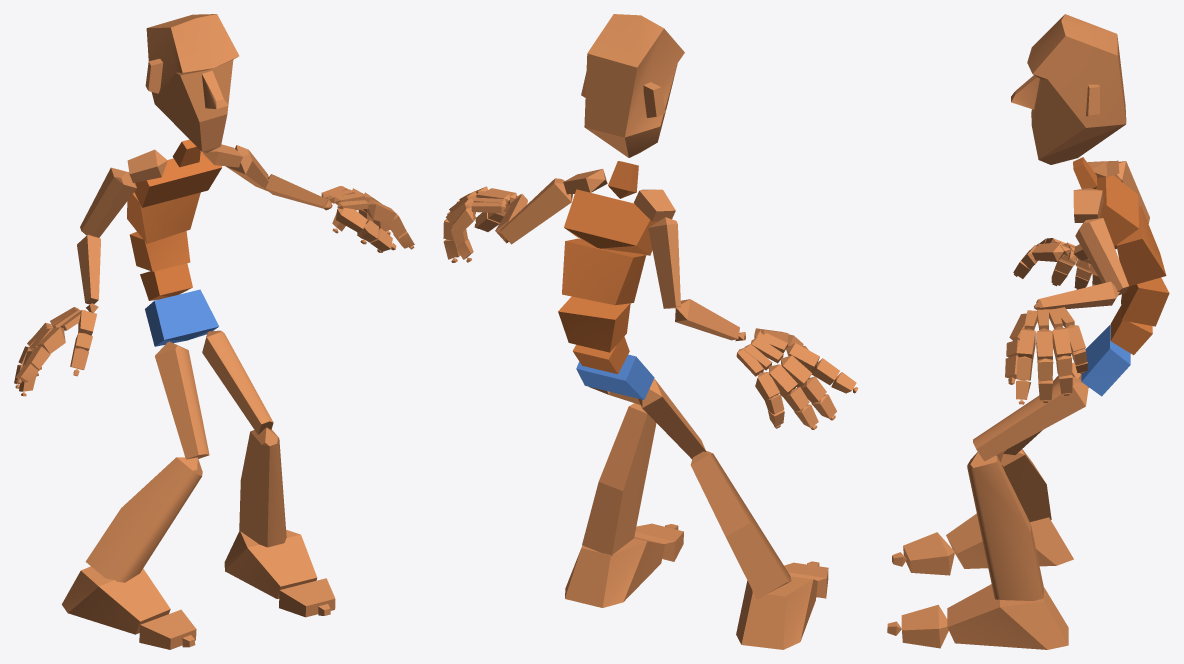
The model's file is prueba210.obj.
3 views of the same model, side by side, from view 1: azimuth 30°, elevation 25°; view 2: azimuth 150°, elevation 25°; view 3: azimuth 270°, elevation 25° (orthographic). The views are drawn at different scales.
Parts seen in each view (by area): view 1: BOPED_Head, BOPED_R_leg, BOPED_L_leg, BOPED_R_foot, BOPED_R_foot01, BOPED_R_legup, Bone01, BOPED_L_legup, Bone05, Bone04, BOPED_R_arm_upper, Bone03 (+8 smaller); view 2: BOPED_Head, BOPED_L_leg, BOPED_R_leg, BOPED_R_foot01, BOPED_R_foot, Bone04, Bone05, Bone03, BOPED_R_arm_upper, BOPED_R_legup, Bone01, BOPED_L_arm_upper (+7 smaller); view 3: BOPED_Head, BOPED_L_leg, BOPED_R_foot01, BOPED_L_legup, BOPED_R_foot, Bone04, BOPED_R_leg, BOPED_L_arm_upper, Bone05, Bone01, Bone03, BOPED_R_foot_toe01 (+11 smaller).
Boxes of the visible parts, left/top/right/bottom form: BOPED_Head: left=145, top=14, right=239, bottom=152; BOPED_R_leg: left=85, top=457, right=202, bottom=582; BOPED_L_leg: left=239, top=427, right=286, bottom=547; BOPED_R_foot: left=62, top=566, right=170, bottom=634; BOPED_R_foot01: left=224, top=529, right=317, bottom=598; BOPED_R_legup: left=155, top=341, right=209, bottom=459; Bone01: left=145, top=289, right=218, bottom=346; BOPED_L_legup: left=202, top=330, right=273, bottom=434; Bone05: left=134, top=151, right=222, bottom=207; Bone04: left=127, top=192, right=200, bottom=243; BOPED_R_arm_upper: left=80, top=167, right=136, bottom=237; Bone03: left=129, top=231, right=190, bottom=271; BOPED_Head: left=581, top=14, right=684, bottom=157; BOPED_L_leg: left=582, top=403, right=656, bottom=556; BOPED_R_leg: left=690, top=451, right=791, bottom=599; BOPED_R_foot01: left=565, top=537, right=664, bottom=607; BOPED_R_foot: left=736, top=576, right=817, bottom=649; Bone04: left=562, top=238, right=646, bottom=305; Bone05: left=564, top=189, right=657, bottom=255; Bone03: left=558, top=296, right=630, bottom=352; BOPED_R_arm_upper: left=648, top=217, right=680, bottom=308; BOPED_R_legup: left=638, top=378, right=706, bottom=459; Bone01: left=576, top=354, right=654, bottom=399; BOPED_L_arm_upper: left=500, top=178, right=572, bottom=244; BOPED_Head: left=1011, top=14, right=1126, bottom=164; BOPED_L_leg: left=967, top=452, right=1043, bottom=600; BOPED_R_foot01: left=947, top=584, right=1068, bottom=649; BOPED_L_legup: left=973, top=376, right=1088, bottom=461; BOPED_R_foot: left=946, top=513, right=1073, bottom=568; Bone04: left=1116, top=206, right=1166, bottom=286; BOPED_R_leg: left=996, top=449, right=1051, bottom=522; BOPED_L_arm_upper: left=1075, top=218, right=1128, bottom=295; Bone05: left=1096, top=175, right=1138, bottom=246; Bone01: left=1081, top=325, right=1130, bottom=396; Bone03: left=1121, top=277, right=1169, bottom=326; BOPED_R_foot_toe01: left=903, top=532, right=954, bottom=575.
Bounding box in the file's own units: 130 × 177 × 76.86.
